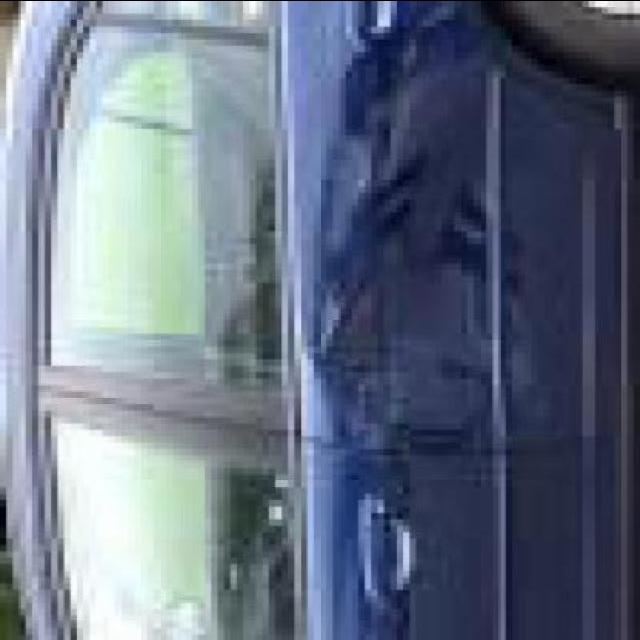doorouter-dent: (288, 31, 627, 537)
